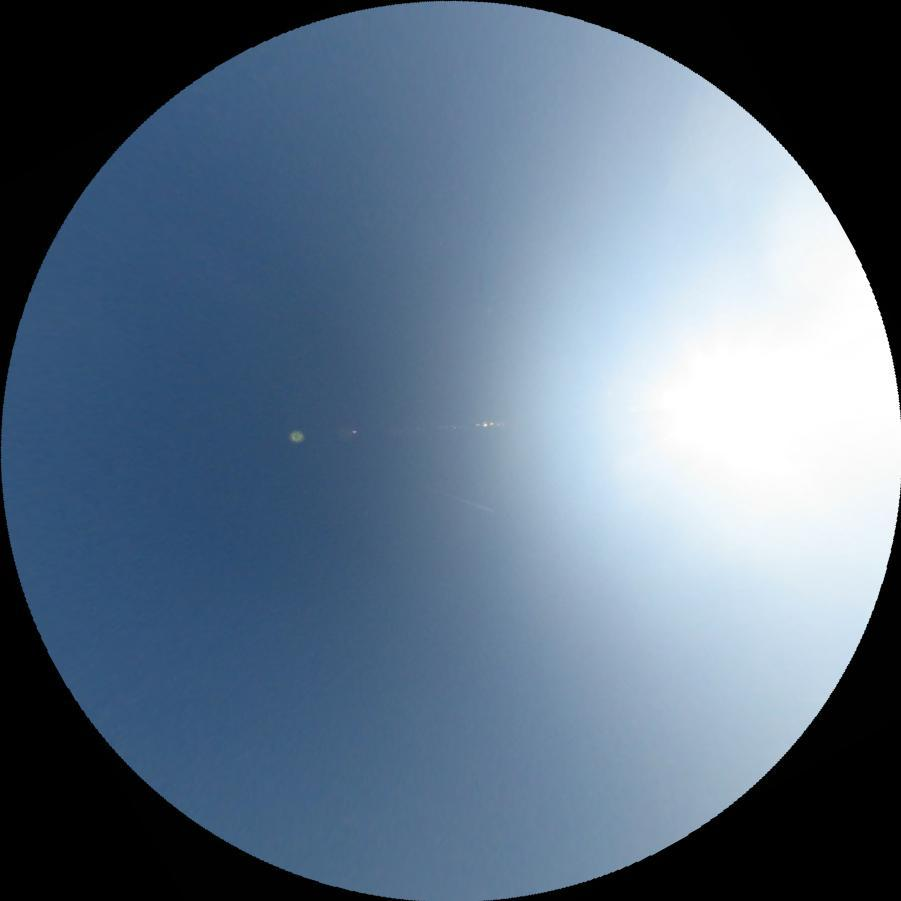contrail young: (418, 481, 493, 512)
sun: (661, 298, 901, 515)
